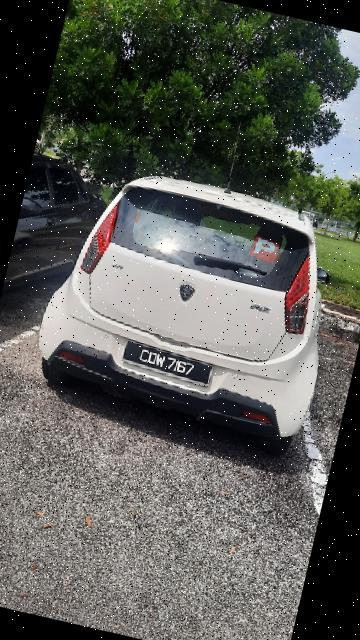License_Plate: (114, 336, 222, 391)
car: (24, 152, 360, 467)
